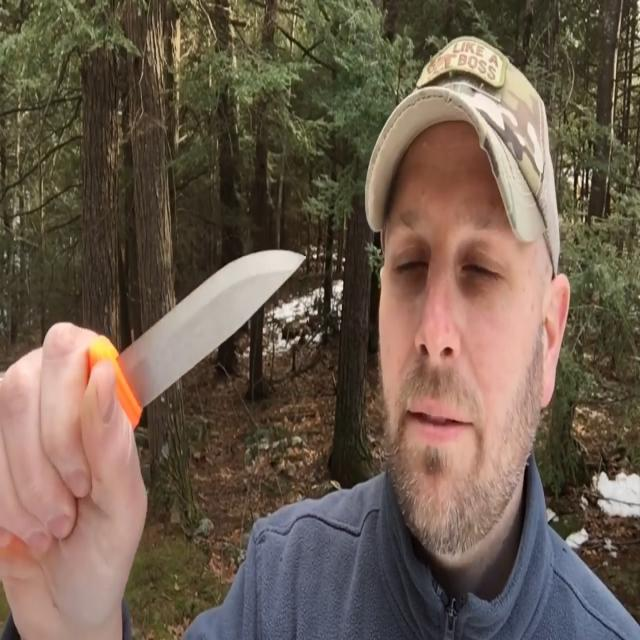knife: (110, 241, 313, 422)
